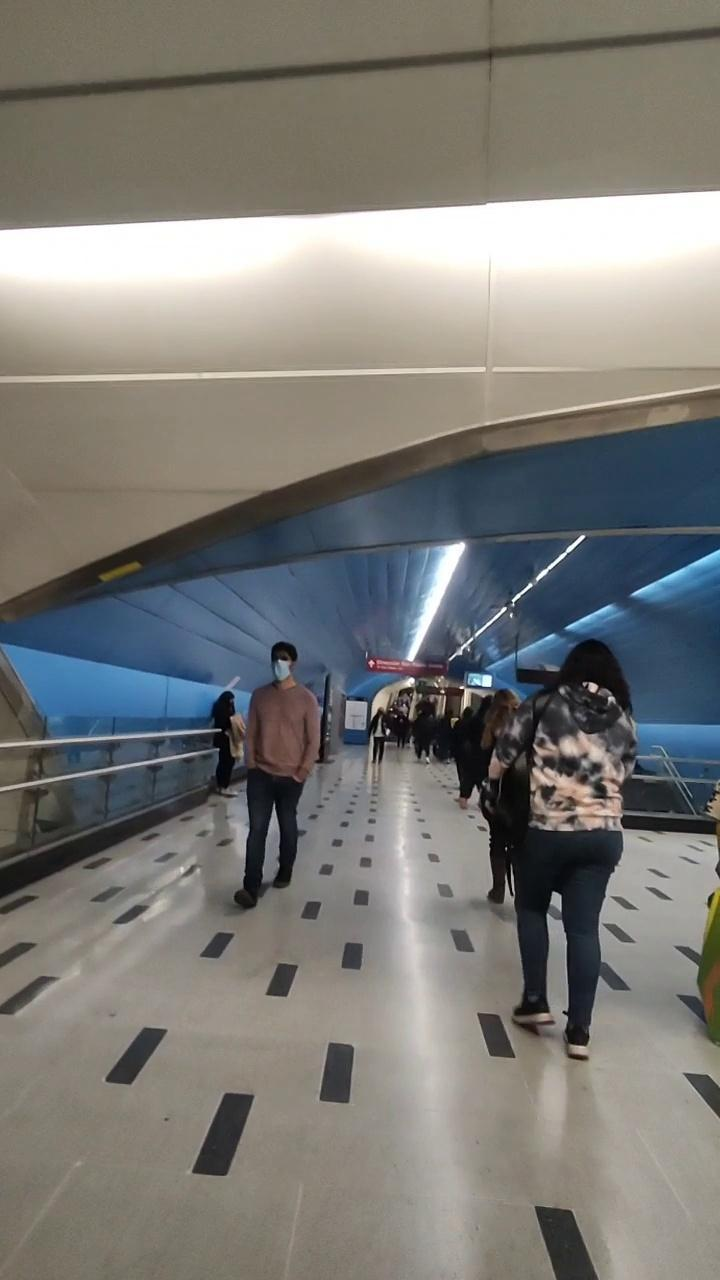up arrow: (369, 659, 376, 670)
